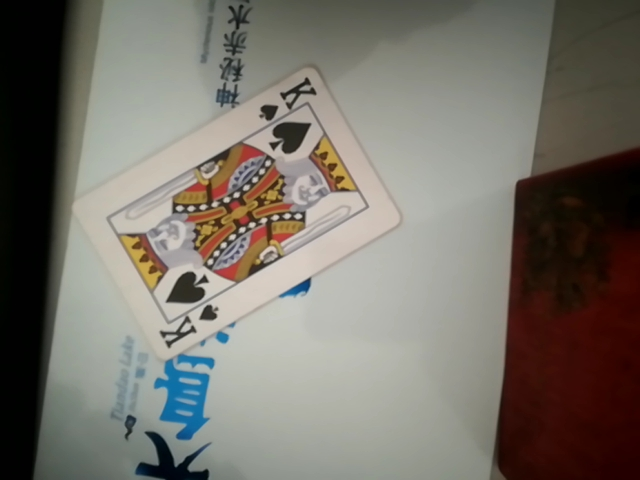ht k: (86, 71, 404, 350)
